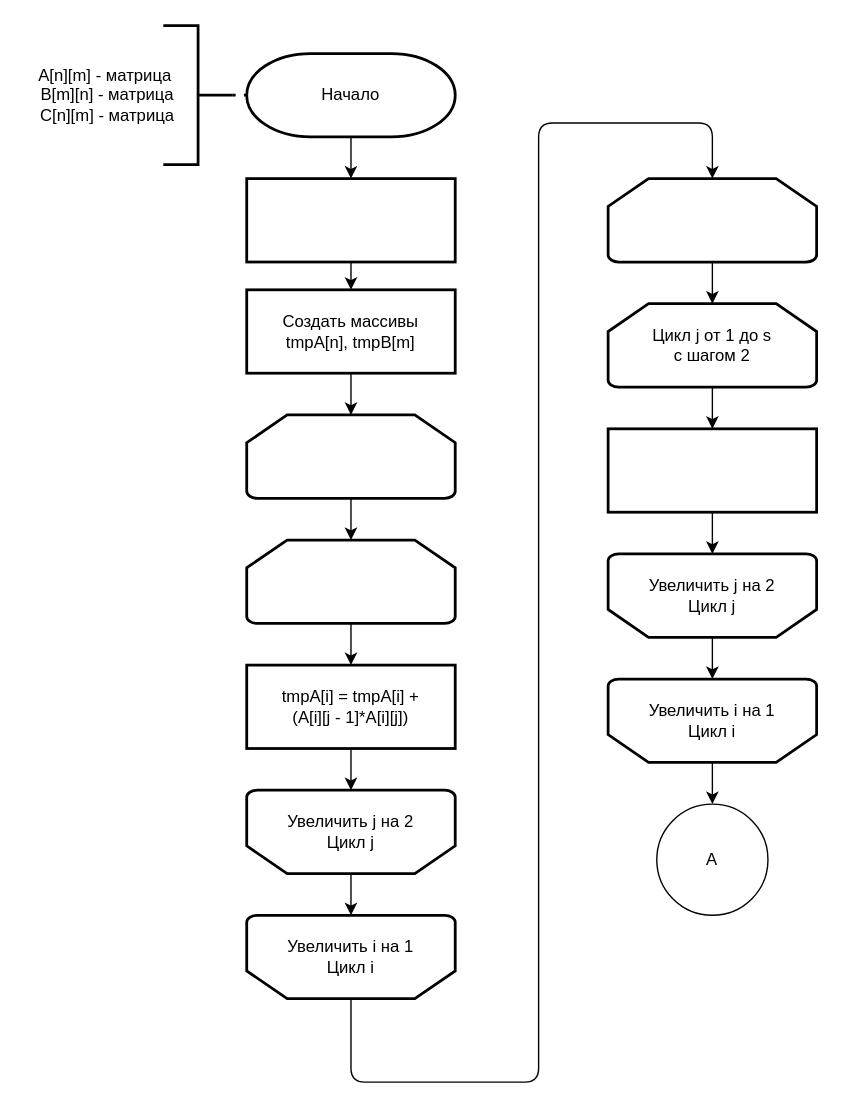
The diagram is 841 pixels wide and 1118 high, and some of its shapes have lost their labels. Each missing label, with the box of its shape:
n = len(A) m = len(B[0]) s = len(B): (245, 177, 456, 263)
tmpB[i] = tmpB[i] + (B[i][j - 1]*B[i][j]): (606, 427, 817, 513)
Цикл i от 0 до m: (606, 177, 817, 263)
Цикл от i = 0 до n: (245, 413, 456, 499)
Цикл от j = 1 до s с шагом 2: (245, 538, 456, 624)
